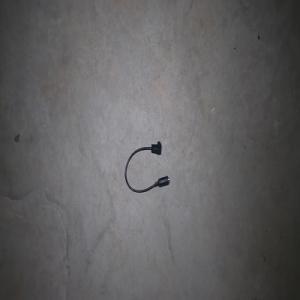Wire: (124, 141, 169, 192)
